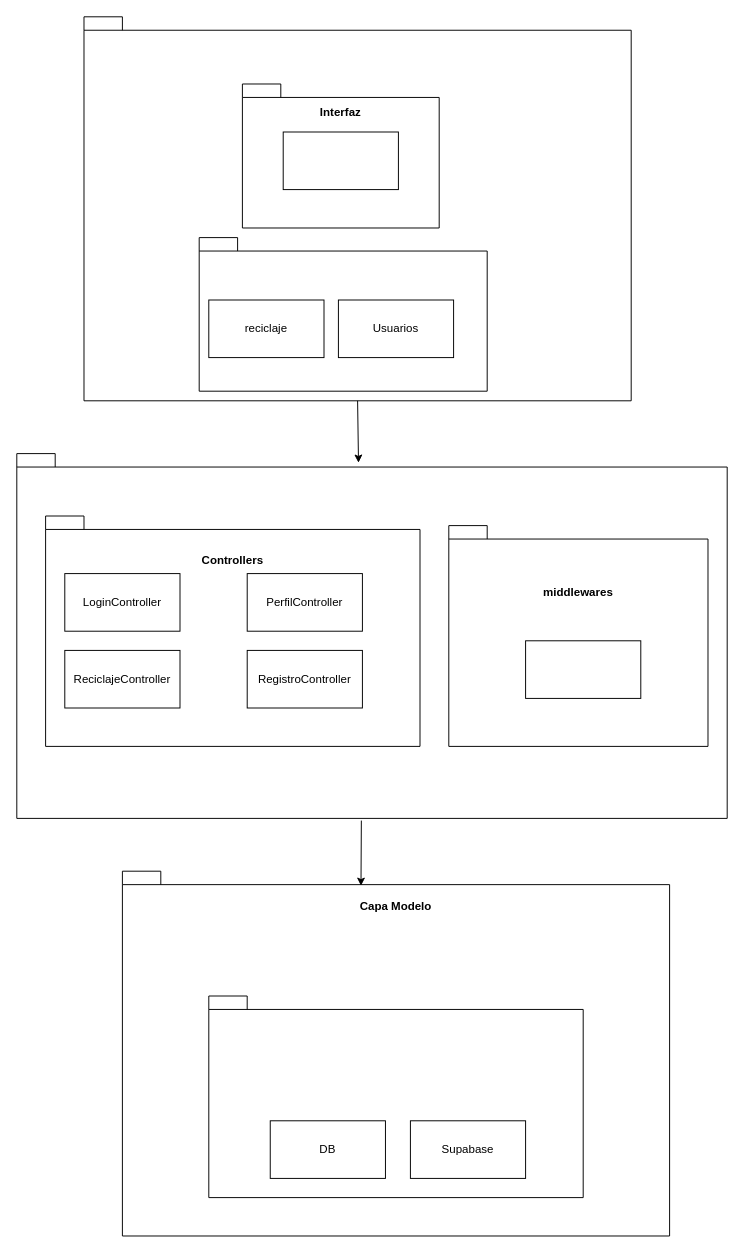
This 744x1253 diagram has some shape labels left out. Here are the shapes that lost their labels. From the top down, the box of each, then its label:
(282, 131, 398, 190): Paginas
(83, 16, 631, 401): Capa Presentacion
(198, 237, 487, 391): Routes
(16, 453, 727, 818): Capa Controlador
(525, 640, 641, 698): AuthMiddleware
(208, 995, 583, 1198): Models
